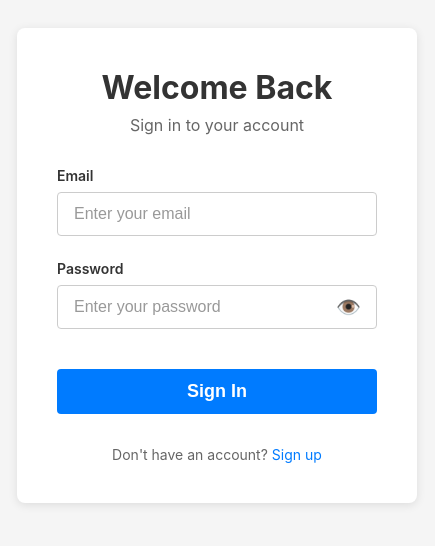
Test: Login Component › validates required fields on submit
Step 1. Click the button "Sign In" → (217, 391), box [57,368,377,414]
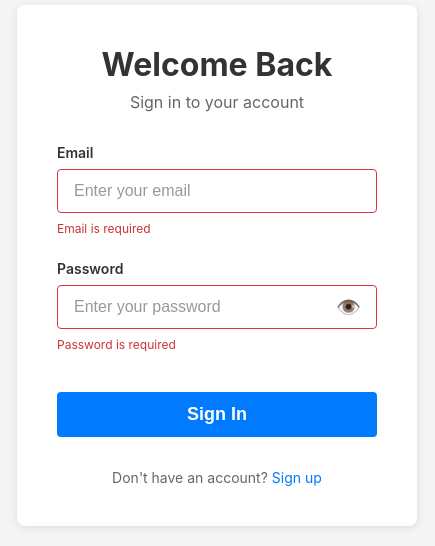
Check: the text "Email is required" is shown, box [57,220,151,236]
Check: the text "Password is required" is shown, box [57,336,176,352]
